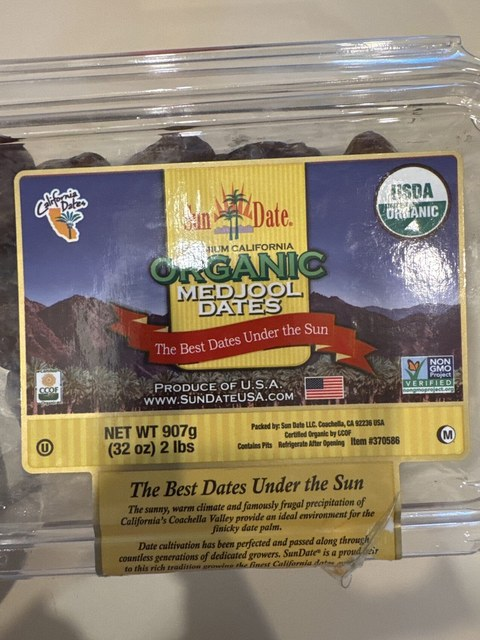Medjool Dates: (24, 32, 456, 608)
